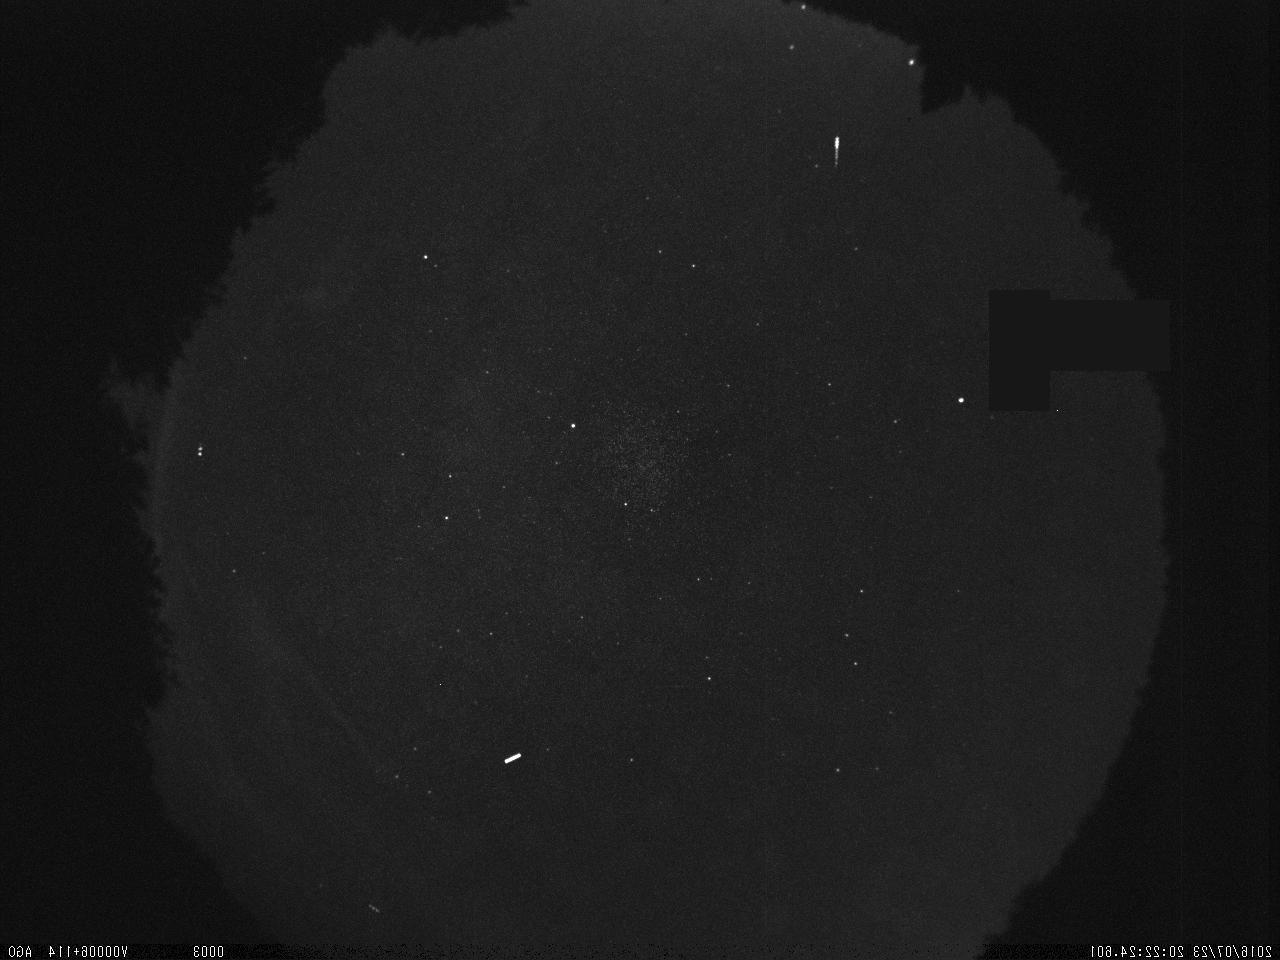meteor: (823, 131, 846, 174)
satelite: (498, 744, 528, 778)
